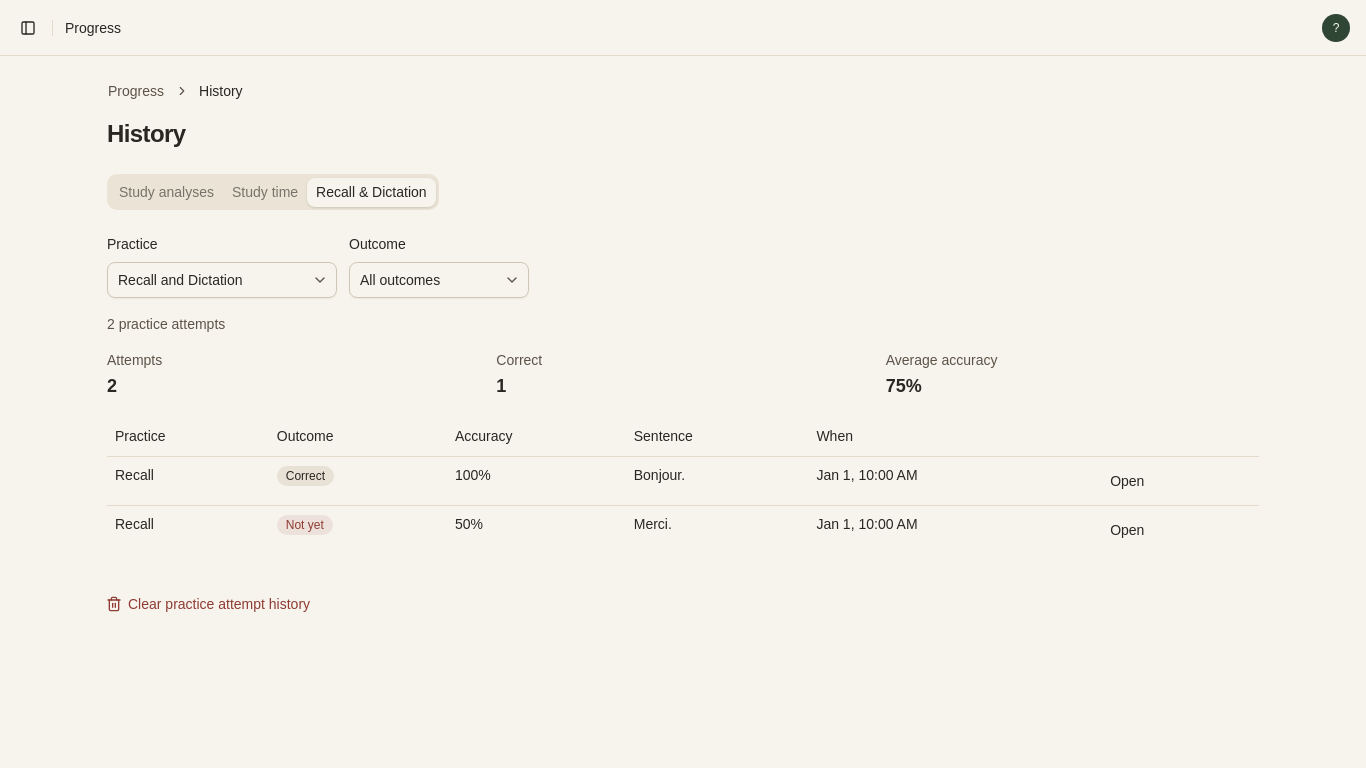
Test: 14. History, Progress and Episodes on the server › clearing attempts deletes them on the server and leaves study records alone
Expected: the element that starts with "Progress" shows "2 practice attempts", [107,316,225,332]
Click the button "Clear practice attempt history" at [208, 604], box [95,586,321,622]
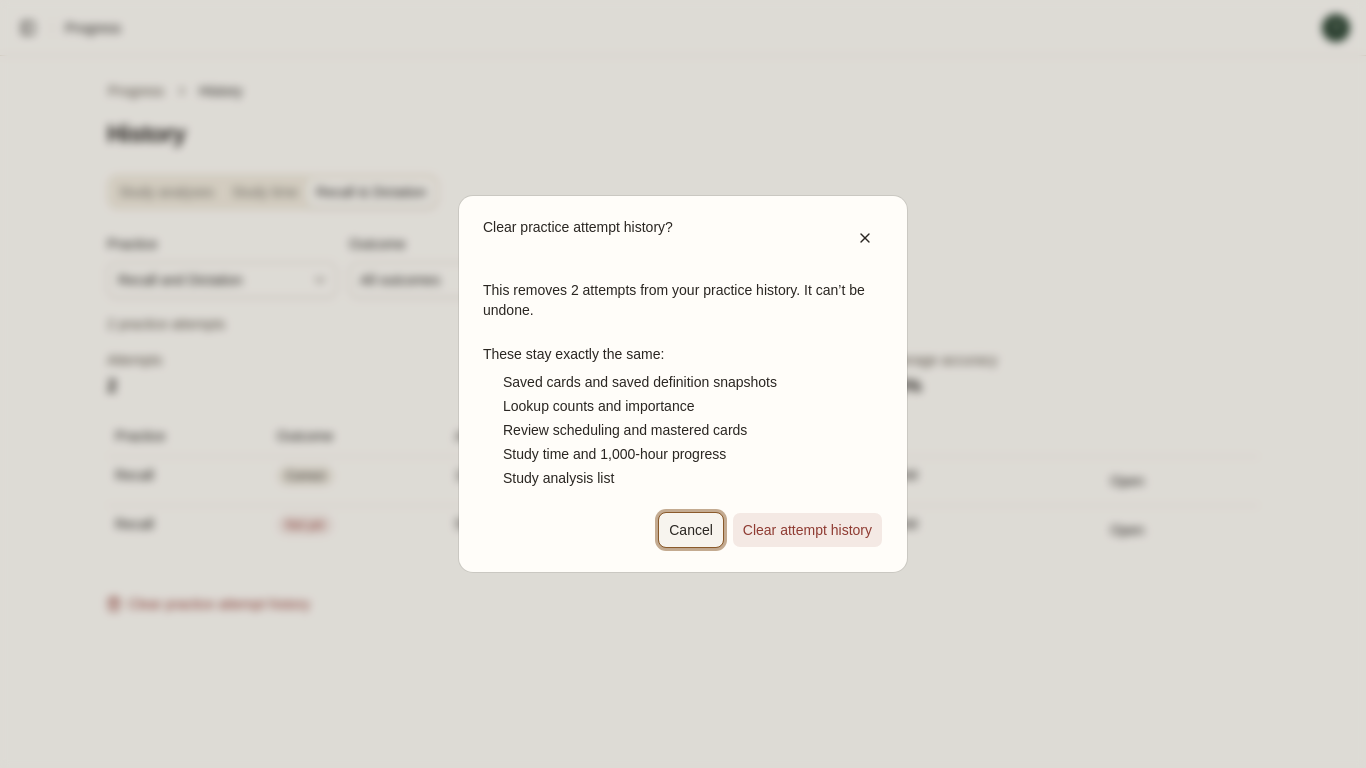
Click the button "Clear attempt history" at [807, 530], box [732,512,883,548]
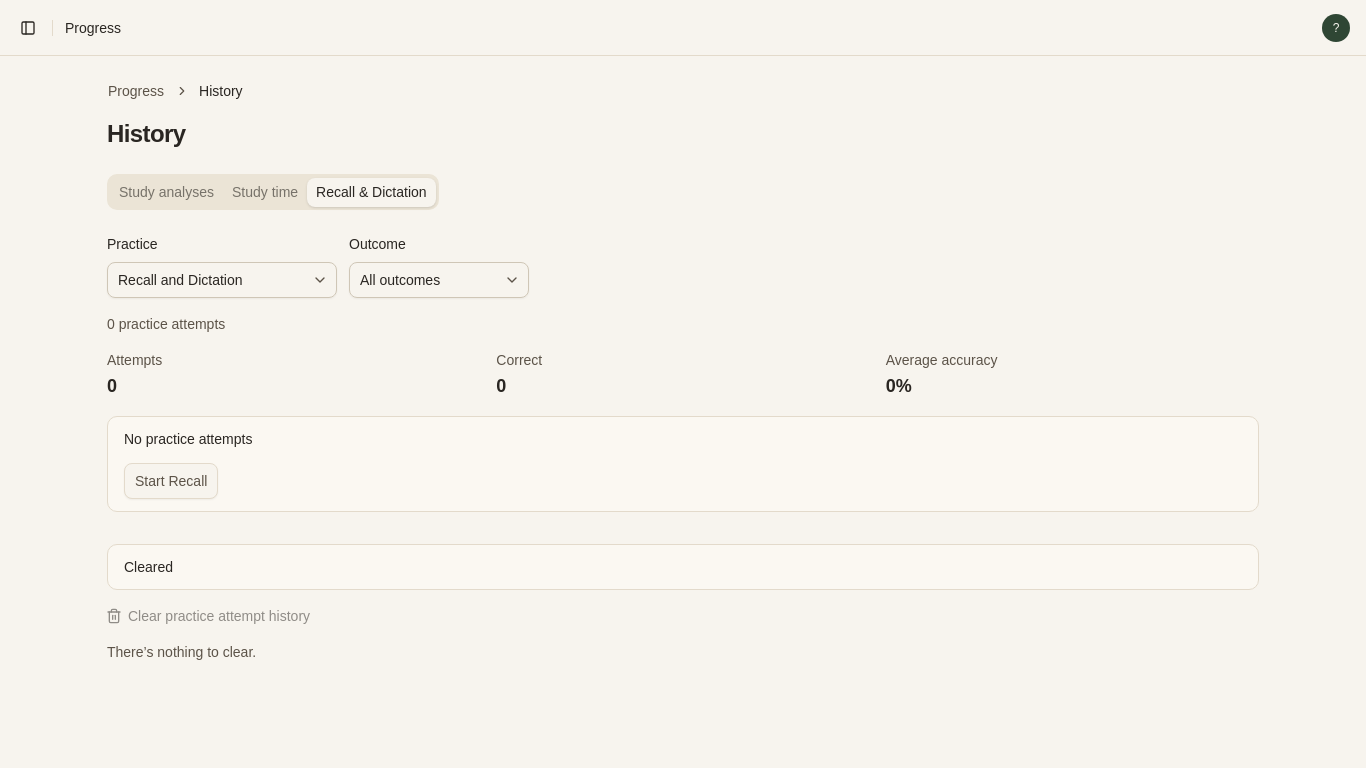
Now the element that starts with "Progress" shows "No practice attempts", box [124,431,252,447]
